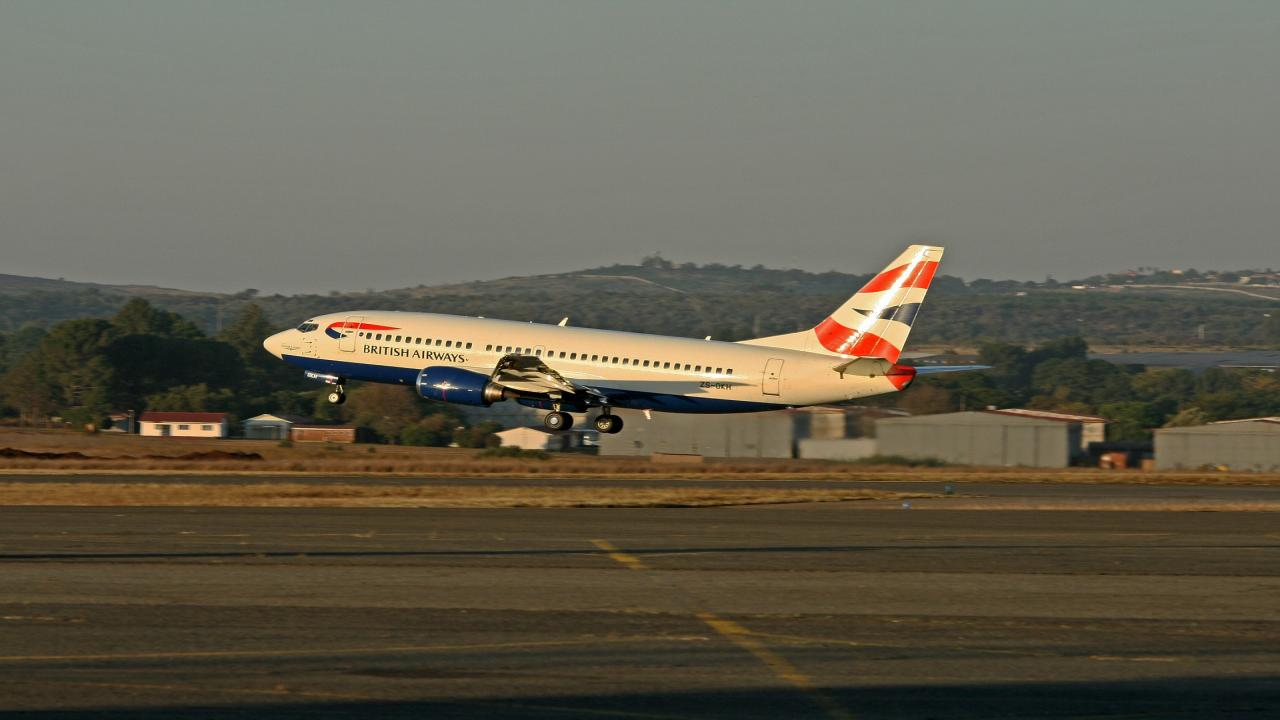Airplane: (250, 229, 957, 449)
